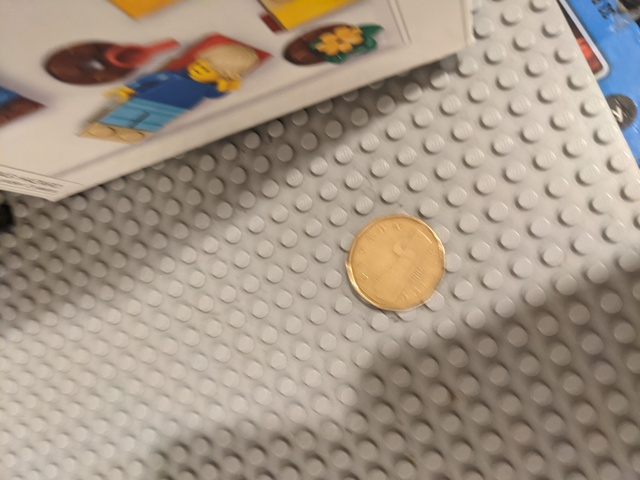loonie: (335, 194, 447, 324)
